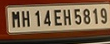1: (34, 10, 42, 28), (93, 8, 99, 25)
4: (43, 10, 52, 27)
5: (73, 8, 81, 25)
8: (82, 9, 91, 25)
9: (100, 7, 108, 25)
E: (54, 10, 63, 26)
H: (21, 10, 32, 28), (62, 9, 72, 26)
M: (11, 10, 21, 29)
